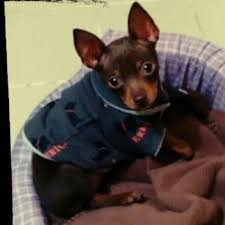chihuahua: (26, 2, 194, 180)
